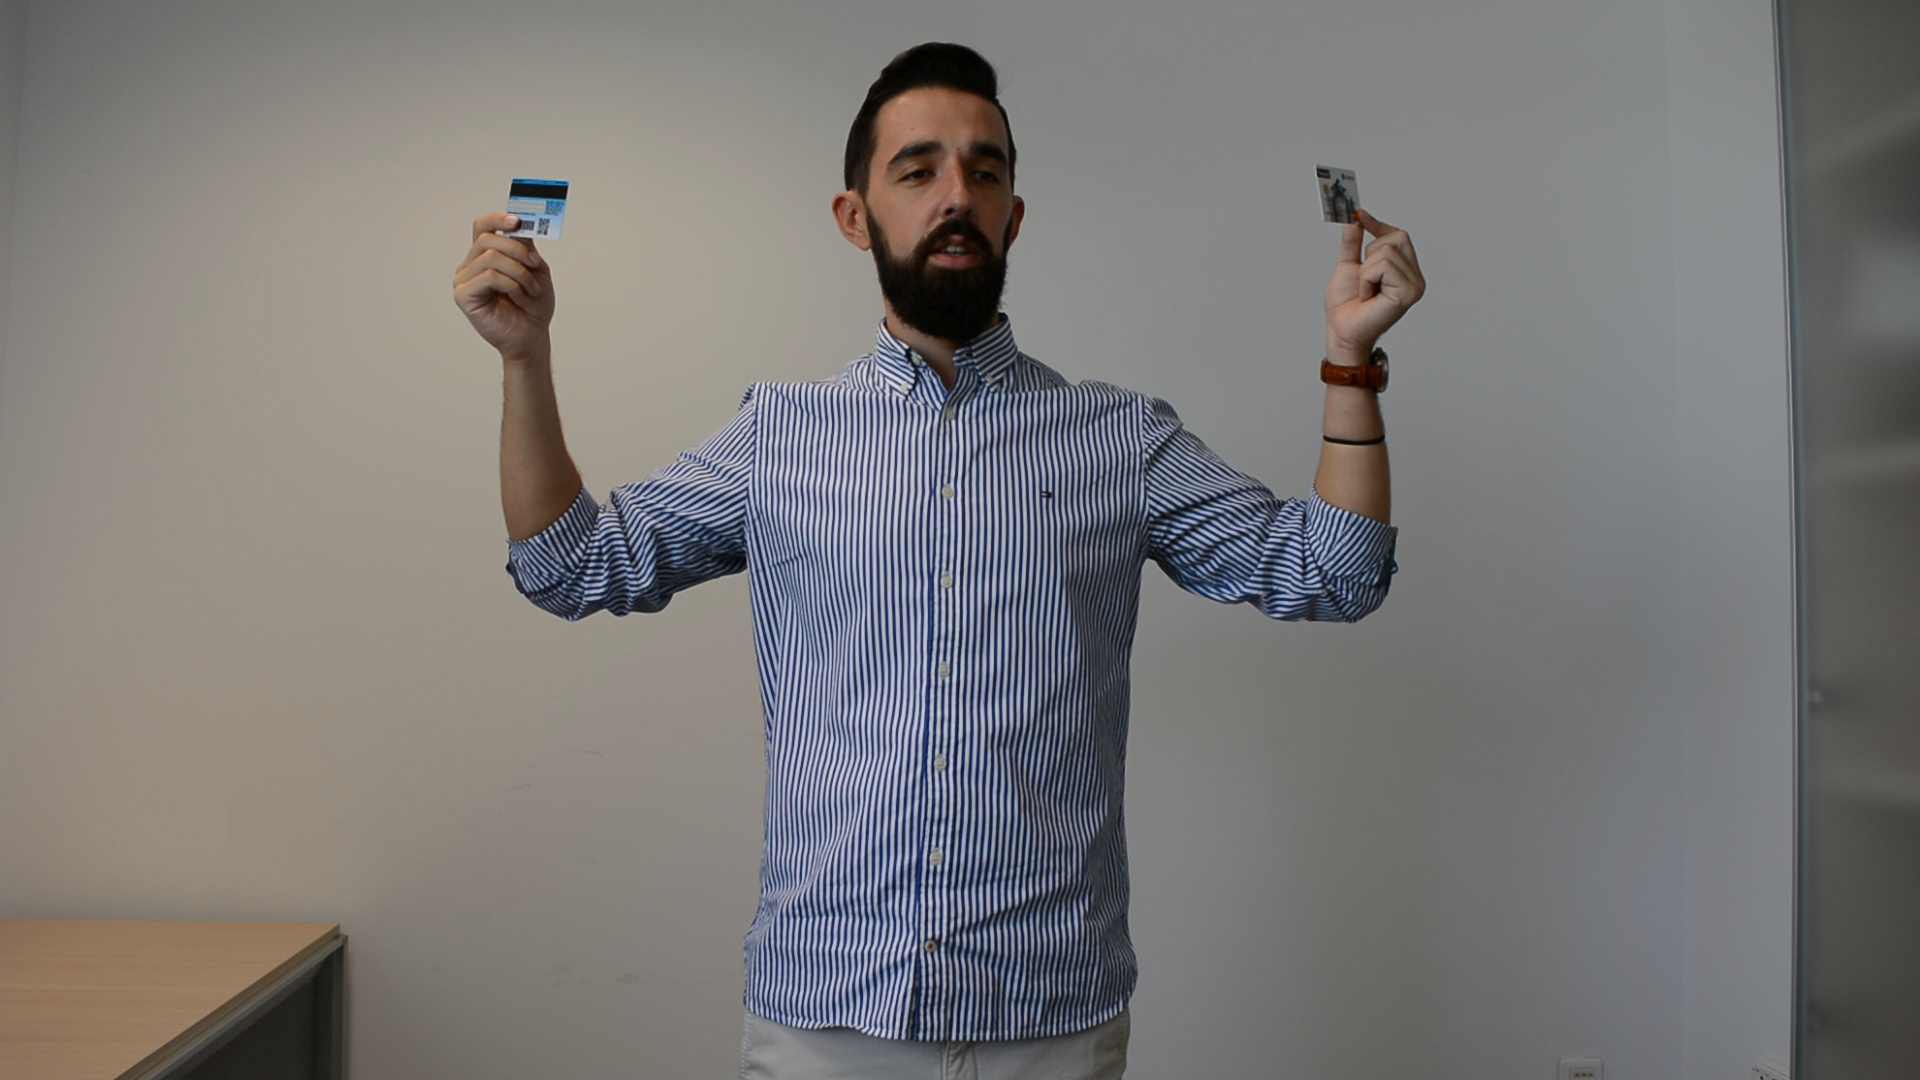tarjeta: (498, 174, 572, 243), (1313, 162, 1365, 228)
